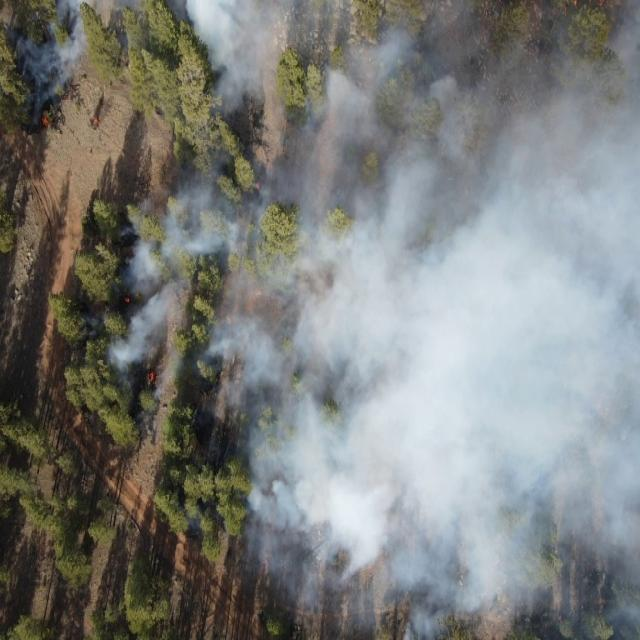fire: (186, 0, 640, 640), (34, 112, 50, 134), (88, 113, 102, 128), (146, 370, 160, 384), (254, 178, 264, 194), (126, 294, 130, 302)
smoke: (122, 186, 184, 412), (0, 0, 94, 114)
